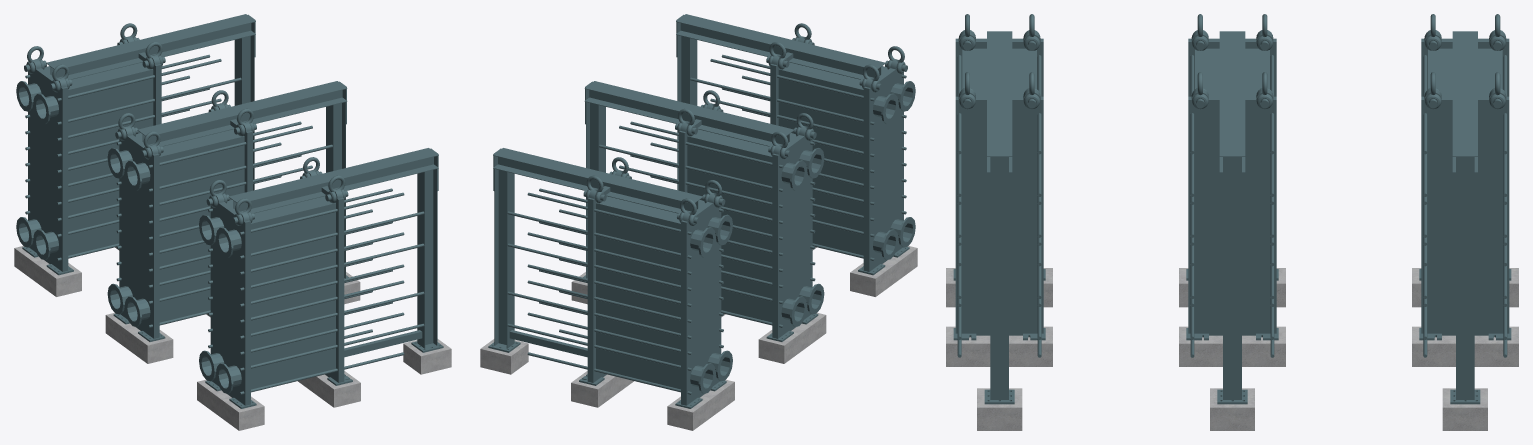
The model's file is Zone_P2_Eqp_Process_13a15.fbx.
3 views of the same model, side by side, from view 1: azimuth 30°, elevation 25°; view 2: azimuth 150°, elevation 25°; view 3: azimuth 270°, elevation 25° (orthographic). The views are drawn at different scales.
Visible parts, largest first — view 1: EQP_Process_013_04 (×3), EQP_Process_013_01 (×3), EQP_Process_013_03 (×3), EQP_Process_013_02 (×3); view 2: EQP_Process_013_04 (×3), EQP_Process_013_01 (×3), EQP_Process_013_03 (×3), EQP_Process_013_02 (×3); view 3: EQP_Process_013_04 (×3), EQP_Process_013_03 (×3), EQP_Process_013_01 (×3), EQP_Process_013_02 (×3).
Part boxes in pixels (x1=…): EQP_Process_013_04 (×3): x1=16, y1=14, x2=443, y2=408; EQP_Process_013_01 (×3): x1=25, y1=54, x2=424, y2=394; EQP_Process_013_03 (×3): x1=14, y1=246, x2=451, y2=430; EQP_Process_013_02 (×3): x1=24, y1=23, x2=348, y2=225; EQP_Process_013_04 (×3): x1=488, y1=14, x2=915, y2=408; EQP_Process_013_01 (×3): x1=507, y1=54, x2=906, y2=394; EQP_Process_013_03 (×3): x1=480, y1=246, x2=917, y2=430; EQP_Process_013_02 (×3): x1=583, y1=23, x2=907, y2=226; EQP_Process_013_04 (×3): x1=953, y1=31, x2=1511, y2=404; EQP_Process_013_03 (×3): x1=946, y1=268, x2=1518, y2=430; EQP_Process_013_01 (×3): x1=957, y1=55, x2=1507, y2=357; EQP_Process_013_02 (×3): x1=958, y1=14, x2=1506, y2=109.
Bounding box in the file's own units: 446 × 417 × 762.
2 materials, 1 textured.
